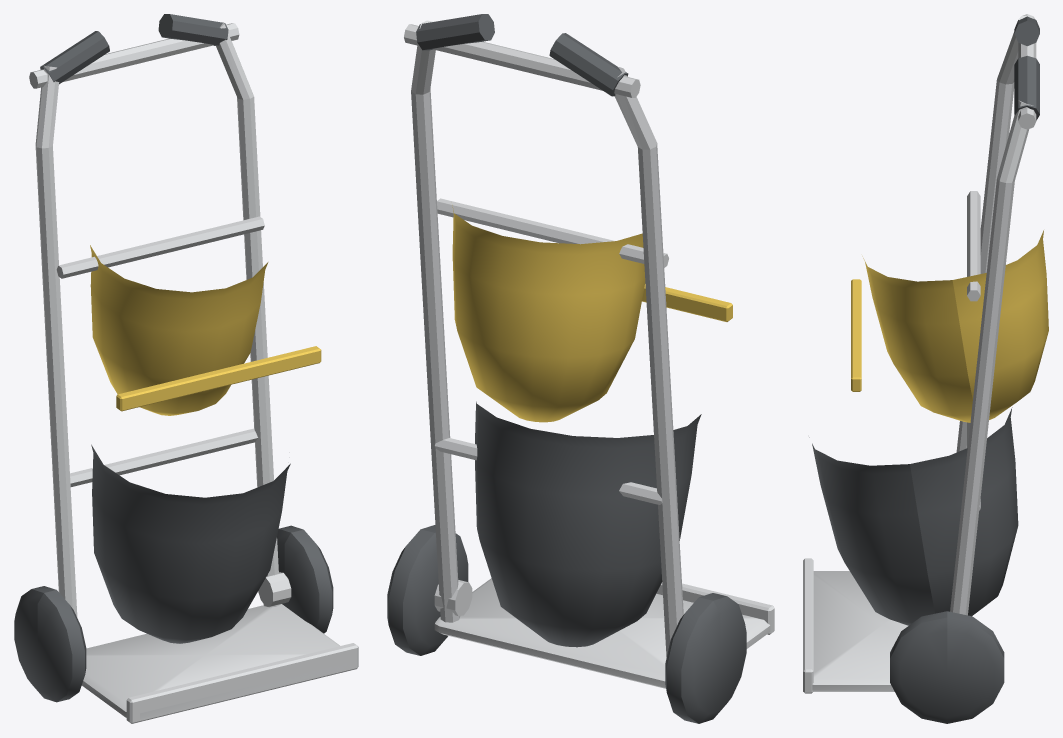
File: laundrette-and-cleaning-waste-sack-trolley-6cf42329__25611.glb
3 views of the same model, side by side, from view 1: azimuth 30°, elevation 25°; view 2: azimuth 150°, elevation 25°; view 3: azimuth 270°, elevation 25° (orthographic). The views are drawn at different scales.
Visible parts, largest first — view 1: waste-sack-trolley; view 2: waste-sack-trolley; view 3: waste-sack-trolley.
Boxes of the visible parts, bbox=[...] form: waste-sack-trolley: bbox=[14, 14, 358, 723]; waste-sack-trolley: bbox=[387, 14, 774, 723]; waste-sack-trolley: bbox=[803, 14, 1048, 723].
Size of the model in its own units: 0.596 by 1.28 by 0.4607.
